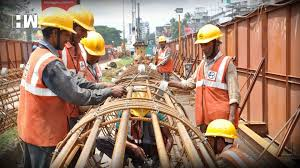hard hat: (87, 34, 112, 61)
safe person: (24, 7, 74, 151), (187, 24, 253, 119), (156, 34, 173, 74)
